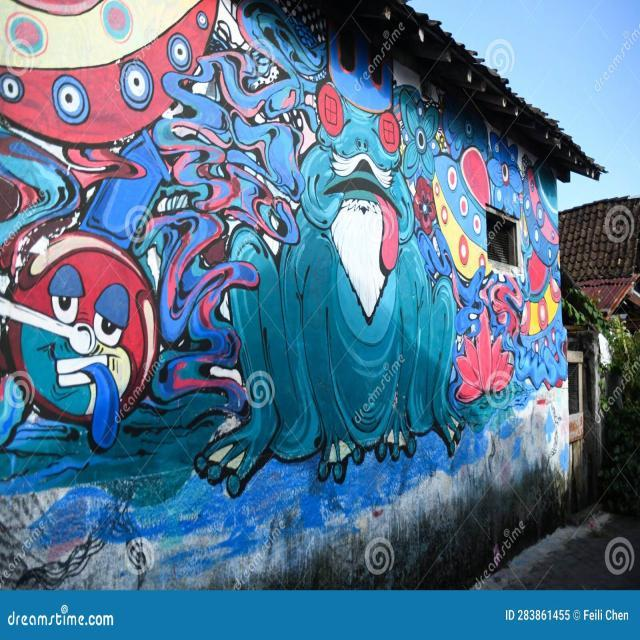-: (0, 0, 570, 497)
